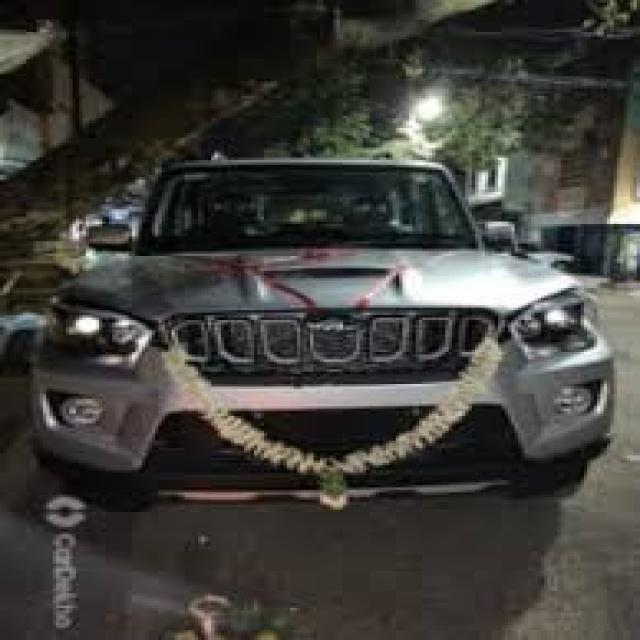Car: (34, 164, 613, 507)
